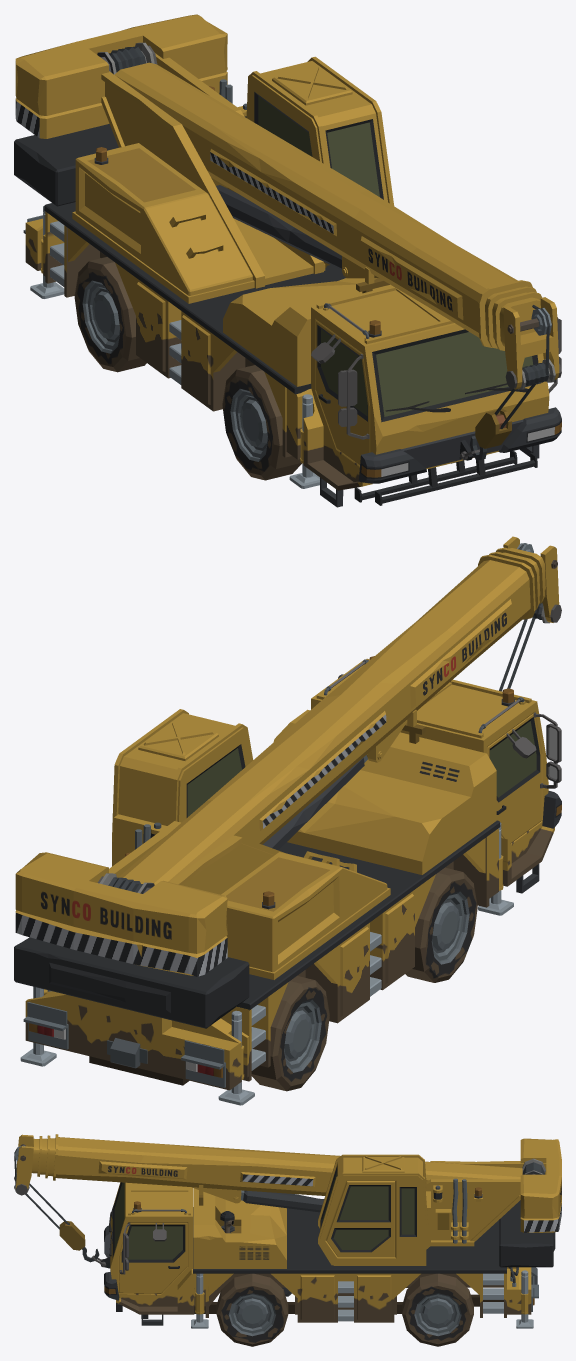
Rendered from SM_Veh_Crane_01.fbx.
The picture shows the model from 3 angles, top to bottom: view 1: azimuth 30°, elevation 25°; view 2: azimuth 150°, elevation 25°; view 3: azimuth 270°, elevation 25°; orthographic projection. The views are drawn at different scales.
Parts seen in each view (by area): view 1: SM_Veh_Crane_01, SM_Veh_Crane_01_Top, SM_Veh_Crane_01_Arm_01, SM_Veh_Crane_01_Glass, SM_Veh_Crane_01_Wheel_fr, SM_Veh_Crane_01_Wheel_rr, SM_Veh_Crane_01_Arm_04, SM_Veh_Crane_01_Top_Glass, SM_Bld_Crane_Hook_01, SM_Veh_Crane_01_Leg_fr_Shaft, SM_Veh_Crane_01_Arm_02, SM_Veh_Crane_01_Arm_03; view 2: SM_Veh_Crane_01, SM_Veh_Crane_01_Top, SM_Veh_Crane_01_Arm_01, SM_Veh_Crane_01_Wheel_rr, SM_Veh_Crane_01_Wheel_fr, SM_Veh_Crane_01_Glass, SM_Veh_Crane_01_Arm_04, SM_Veh_Crane_01_Top_Glass, SM_Veh_Crane_01_Leg_rr_Shaft; view 3: SM_Veh_Crane_01, SM_Veh_Crane_01_Top, SM_Veh_Crane_01_Arm_01, SM_Veh_Crane_01_Wheel_fl, SM_Veh_Crane_01_Wheel_rl, SM_Veh_Crane_01_Top_Glass, SM_Veh_Crane_01_Glass, SM_Veh_Crane_01_Arm_04, SM_Bld_Crane_Hook_01, SM_Veh_Crane_01_Leg_rl_Shaft, SM_Veh_Crane_01_Leg_fl_Shaft, SM_Veh_Crane_01_Arm_02 (+1 smaller).
Boxes of the visible parts, x1,y1,x2,y2 form: SM_Veh_Crane_01: (14, 124, 561, 507); SM_Veh_Crane_01_Top: (15, 14, 394, 303); SM_Veh_Crane_01_Arm_01: (114, 62, 532, 347); SM_Veh_Crane_01_Glass: (321, 329, 533, 416); SM_Veh_Crane_01_Wheel_fr: (222, 365, 301, 480); SM_Veh_Crane_01_Wheel_rr: (74, 257, 146, 372); SM_Veh_Crane_01_Arm_04: (499, 297, 561, 389); SM_Veh_Crane_01_Top_Glass: (258, 96, 379, 196); SM_Bld_Crane_Hook_01: (470, 409, 511, 460); SM_Veh_Crane_01_Leg_fr_Shaft: (289, 394, 319, 488); SM_Veh_Crane_01_Arm_02: (485, 286, 536, 348); SM_Veh_Crane_01_Arm_03: (492, 292, 541, 350); SM_Veh_Crane_01: (14, 656, 561, 1090); SM_Veh_Crane_01_Top: (15, 709, 390, 979); SM_Veh_Crane_01_Arm_01: (118, 554, 535, 885); SM_Veh_Crane_01_Wheel_rr: (251, 976, 329, 1091); SM_Veh_Crane_01_Wheel_fr: (405, 867, 477, 982); SM_Veh_Crane_01_Glass: (490, 721, 536, 797); SM_Veh_Crane_01_Arm_04: (503, 536, 561, 623); SM_Veh_Crane_01_Top_Glass: (187, 748, 241, 816); SM_Veh_Crane_01_Leg_rr_Shaft: (218, 1010, 254, 1105); SM_Veh_Crane_01: (101, 1182, 555, 1325); SM_Veh_Crane_01_Top: (318, 1138, 561, 1265); SM_Veh_Crane_01_Arm_01: (53, 1134, 522, 1212); SM_Veh_Crane_01_Wheel_fl: (216, 1273, 288, 1346); SM_Veh_Crane_01_Wheel_rl: (402, 1273, 473, 1346); SM_Veh_Crane_01_Top_Glass: (322, 1171, 414, 1249); SM_Veh_Crane_01_Glass: (114, 1182, 182, 1259); SM_Veh_Crane_01_Arm_04: (14, 1134, 39, 1195); SM_Bld_Crane_Hook_01: (59, 1221, 99, 1262); SM_Veh_Crane_01_Leg_rl_Shaft: (516, 1270, 533, 1328); SM_Veh_Crane_01_Leg_fl_Shaft: (191, 1273, 208, 1328); SM_Veh_Crane_01_Arm_02: (45, 1135, 55, 1178).
Bounding box in the file's own units: 349 × 422 × 1183.
